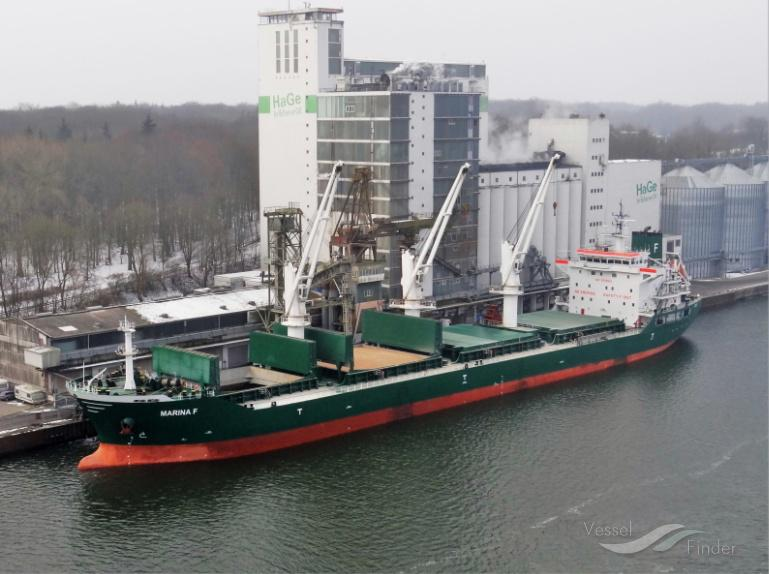OCR: (152, 404, 203, 419)
